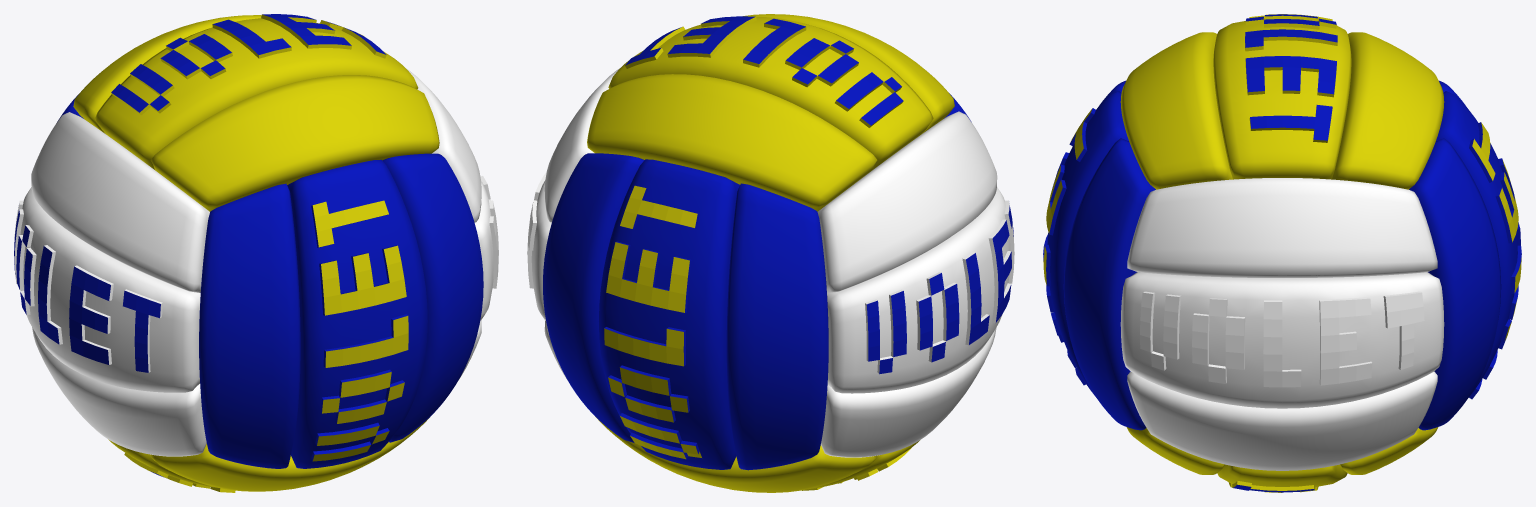
File: volletball.fbx
The picture shows the model from 3 angles, left to right: view 1: azimuth 30°, elevation 25°; view 2: azimuth 150°, elevation 25°; view 3: azimuth 270°, elevation 25°; orthographic projection.
Visible parts, largest first — view 1: volleyball; view 2: volleyball; view 3: volleyball.
Boxes of the visible parts, x1=… form: volleyball: x1=14, y1=14, x2=498, y2=492; volleyball: x1=527, y1=14, x2=1014, y2=492; volleyball: x1=1043, y1=14, x2=1521, y2=492.
Size of the model in its own units: 34.43 by 34.43 by 34.43.
